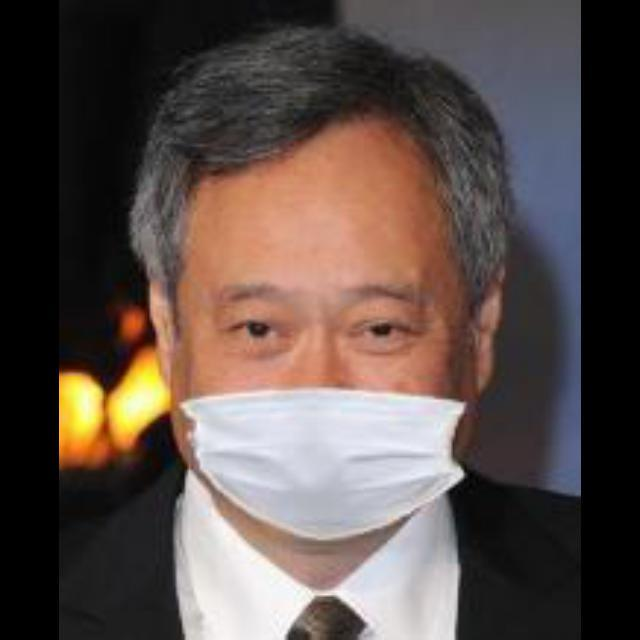suspicion: (134, 94, 500, 512)
